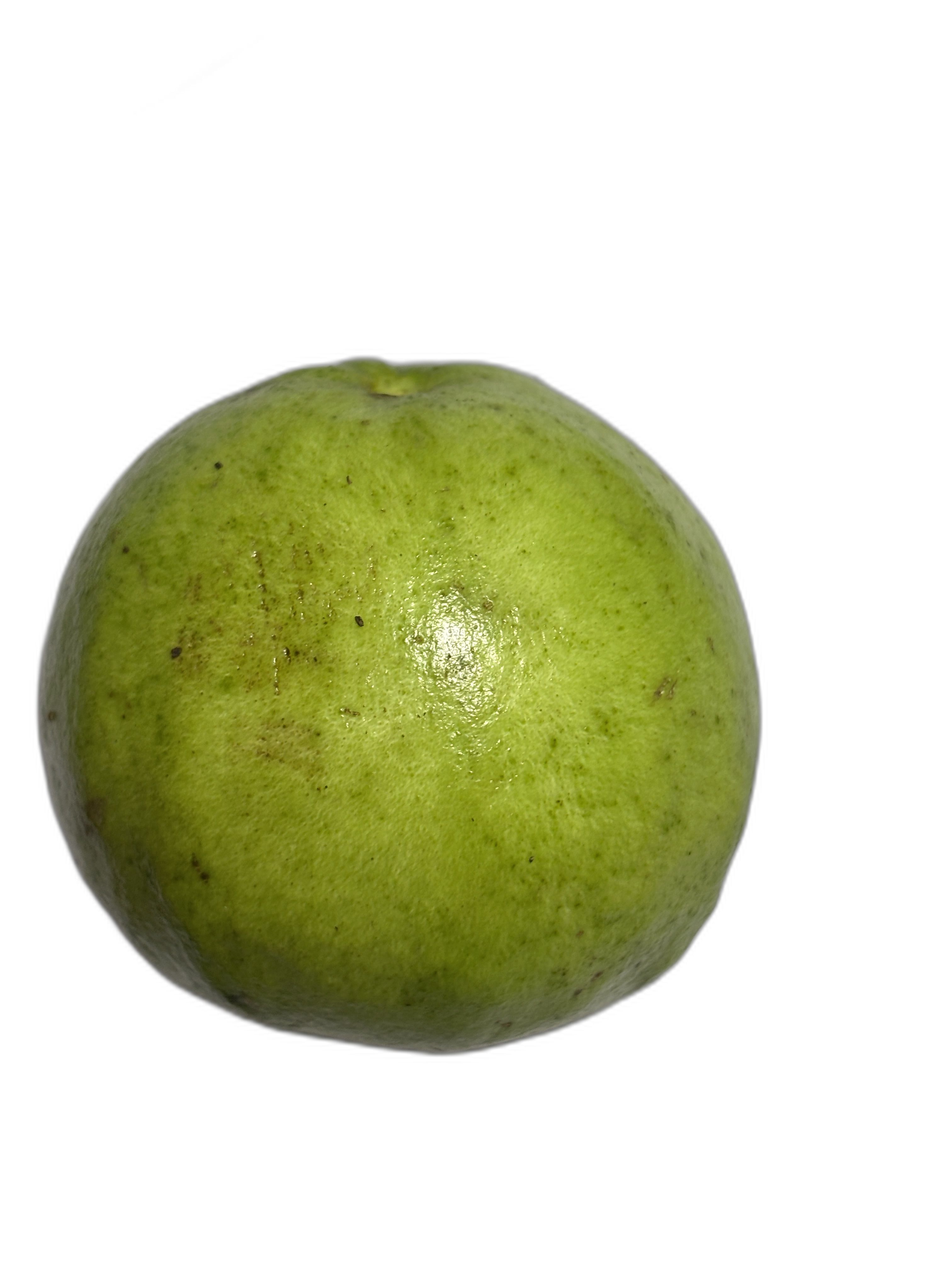guava: (133, 298, 939, 1151)
